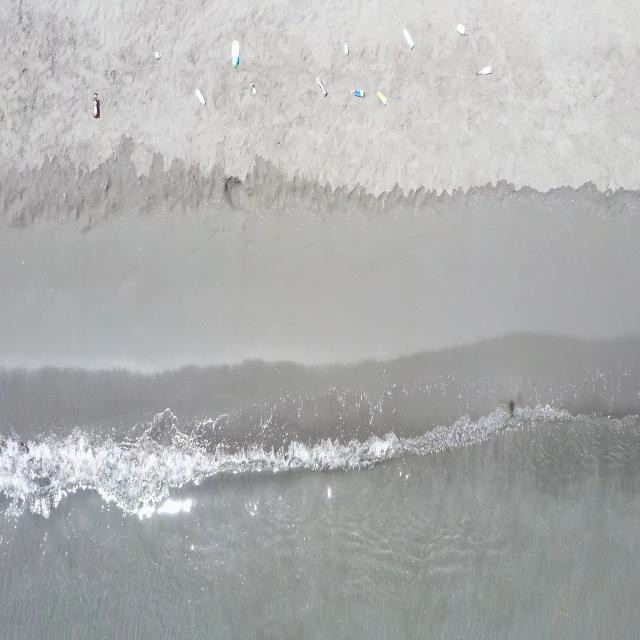plastic-bottle: (230, 39, 241, 70), (402, 26, 414, 50), (315, 76, 328, 98), (474, 64, 493, 79), (194, 87, 208, 106), (376, 89, 389, 108), (456, 21, 470, 38), (92, 93, 100, 119), (350, 88, 364, 99), (250, 82, 258, 95), (153, 50, 162, 61), (343, 40, 349, 56)
